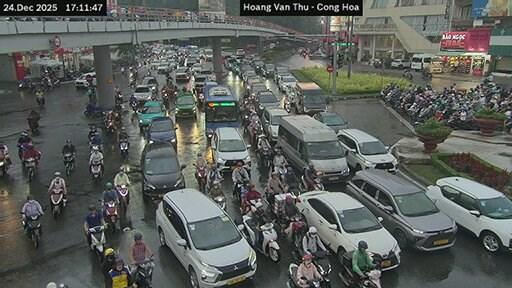motorbike: (239, 215, 280, 261), (339, 252, 380, 287), (312, 251, 330, 286), (288, 215, 307, 247), (89, 225, 105, 261), (134, 259, 152, 287), (22, 215, 39, 241), (105, 201, 118, 233), (115, 184, 128, 214), (51, 189, 64, 219), (287, 262, 300, 287), (194, 163, 204, 192), (256, 148, 271, 166), (90, 161, 102, 183), (83, 103, 103, 116), (275, 163, 287, 184), (233, 180, 246, 199), (25, 158, 35, 180), (18, 142, 31, 158), (64, 153, 73, 175), (118, 139, 128, 158), (213, 194, 224, 210), (105, 117, 115, 134), (310, 176, 323, 189), (112, 103, 121, 121), (300, 278, 320, 286), (19, 77, 32, 89), (0, 153, 7, 175), (291, 247, 300, 264), (35, 91, 44, 107), (28, 120, 38, 133), (300, 175, 307, 192), (48, 76, 60, 85), (402, 70, 412, 80), (422, 70, 432, 79), (284, 98, 290, 112), (115, 91, 122, 103), (505, 117, 511, 131), (131, 100, 137, 112), (128, 76, 134, 88), (250, 199, 259, 205)
